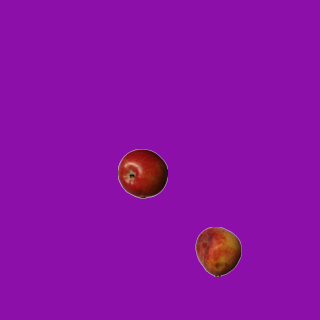Apple Braeburn: (117, 148, 167, 198)
Peach: (193, 226, 243, 276)
